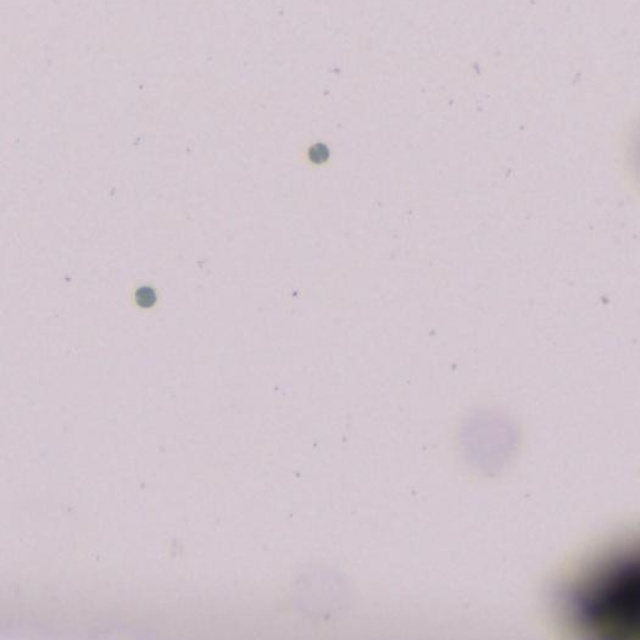non_viable: (307, 141, 329, 165), (134, 286, 156, 307)
